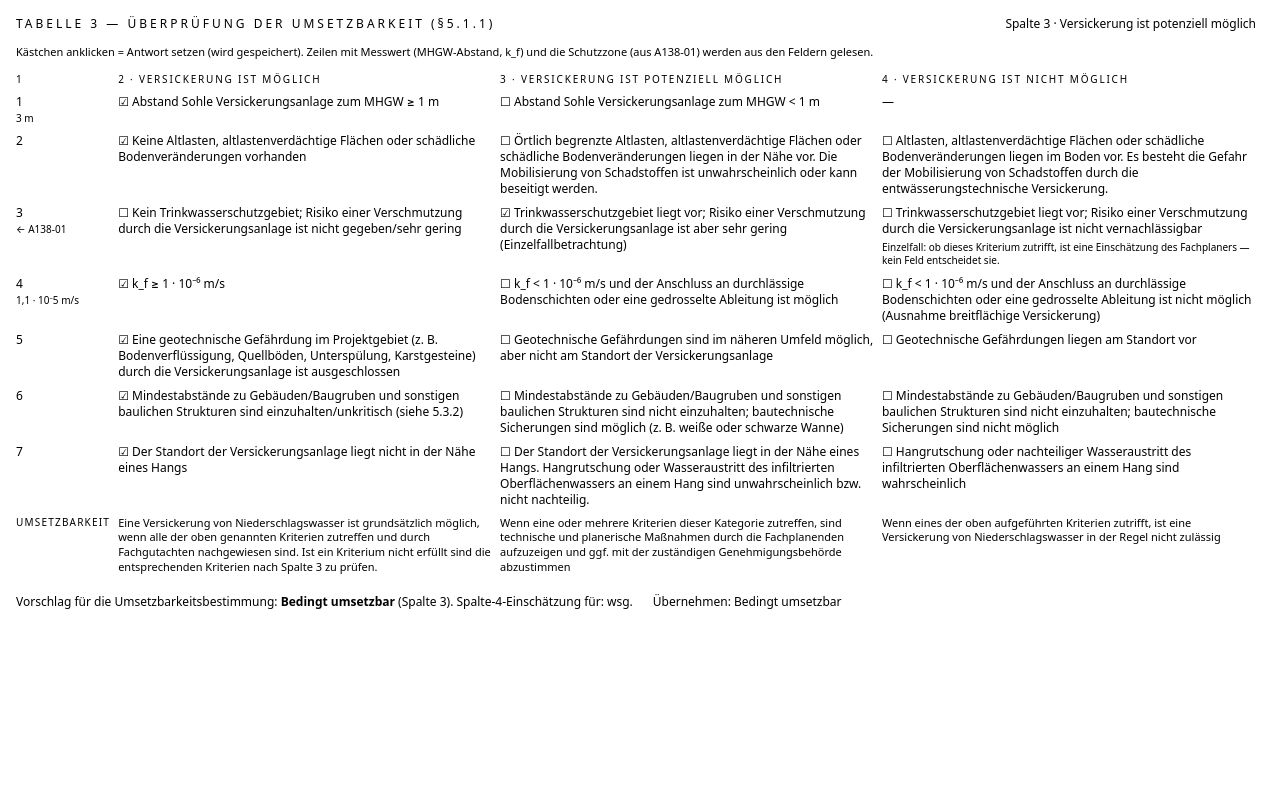
Test: FeasibilityTablePanel (Tab. 3 as input) › a click on a cell writes the answer to the store (autosave path) and moves the tick
Click the button with test id "tab3-cell-hang-3".
click(687, 476)  # box top-left (500, 444), bottom-right (874, 508)
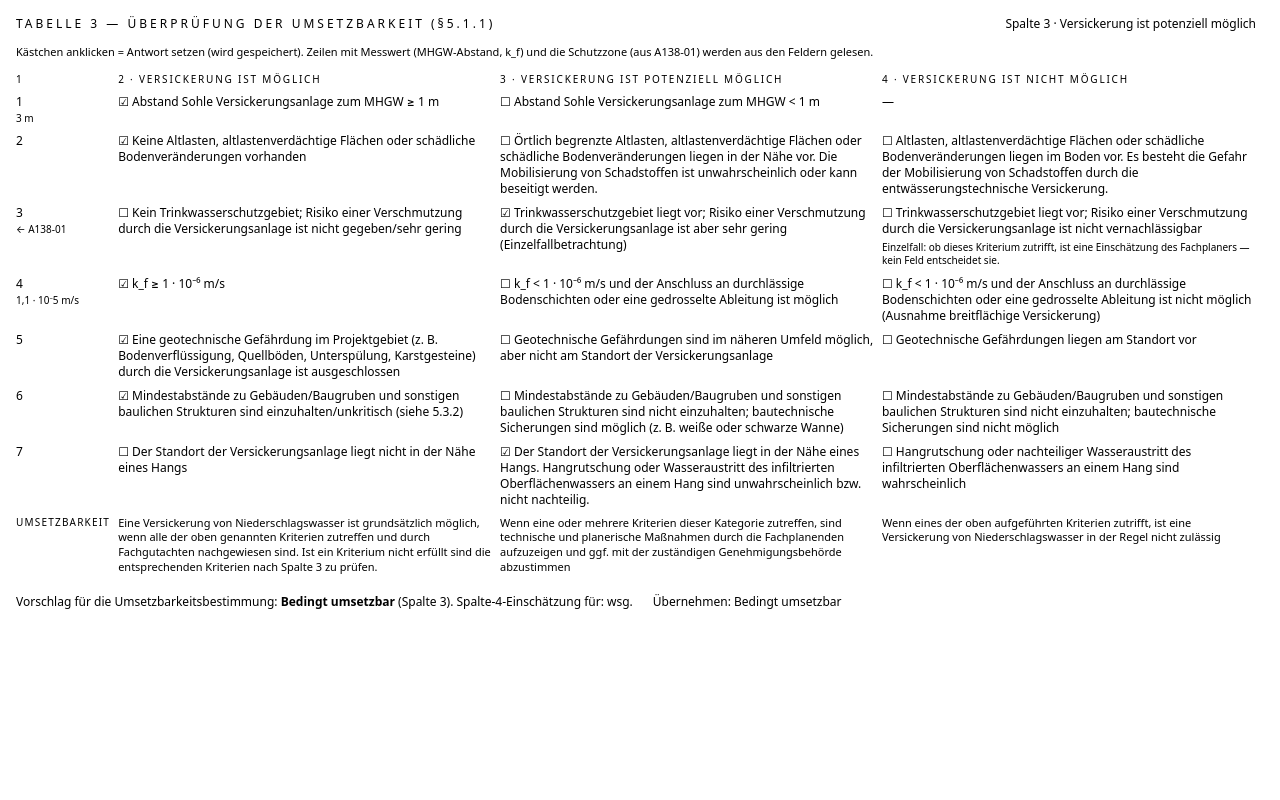
Check: the row with test id "tab3-row-hang" shows "☑ Der Standort der Versickerungsanlage liegt in der Nähe eines Hangs", box top-left (16, 440), bottom-right (1264, 512)
Click the button with test id "tab3-cell-geotech-4".
click(1039, 340)  # box top-left (882, 332), bottom-right (1197, 348)
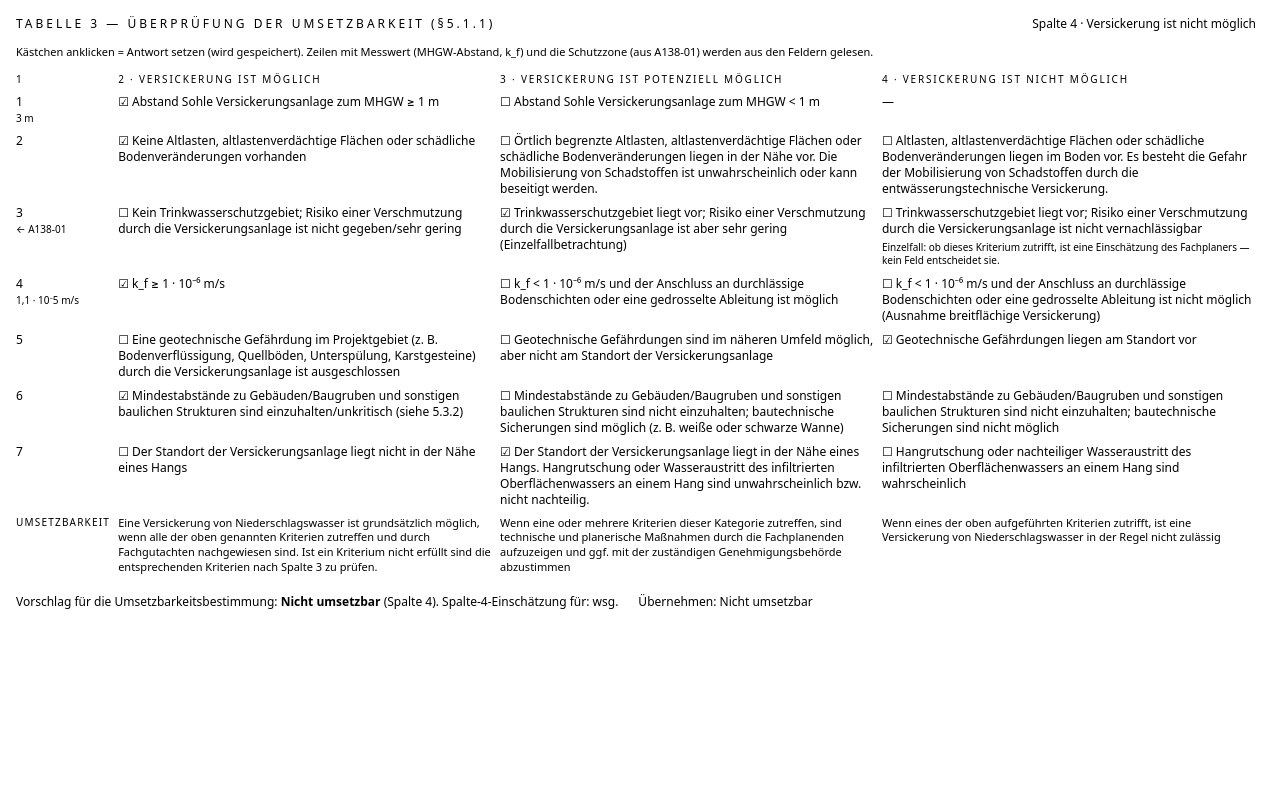
Check: the element with test id "feasibility-table-overall" shows "Spalte 4", box top-left (1024, 16), bottom-right (1264, 32)
